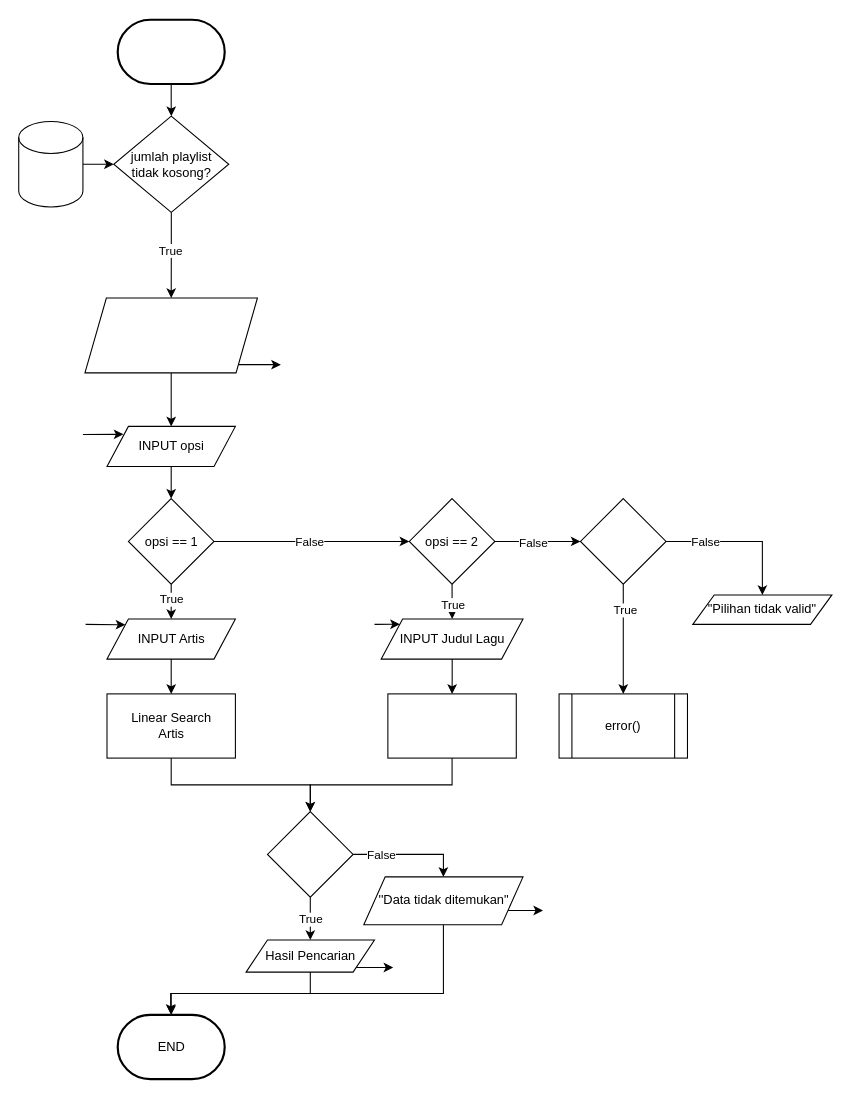
Some shapes in this 851 by 1098 pixel diagram are drawn without their labels. The shapes that lost their labels are listed below. From the top down, each one's centre as x and y in pixels, then its label:
At (x=170, y=51): "menusearching()".
At (x=50, y=163): "user playlist".
At (x=170, y=335): "Menu Searching 1. Cari Artis 2. Cari Judul Lagu".
At (x=622, y=541): "opsi bukan angka".
At (x=451, y=725): "Binary Search Judul Lagu".
At (x=309, y=854): "data ditemukan?".
